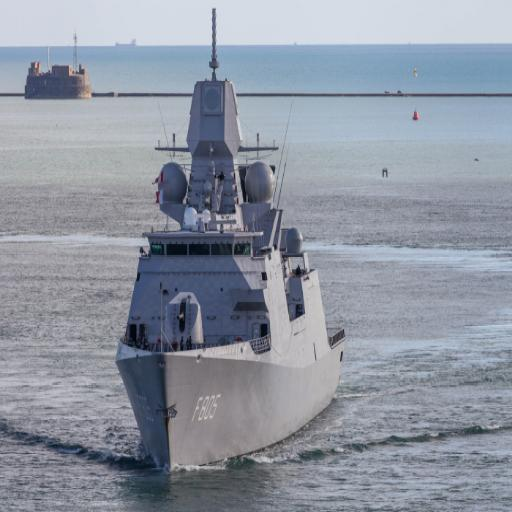Fragata: (117, 6, 352, 481)
